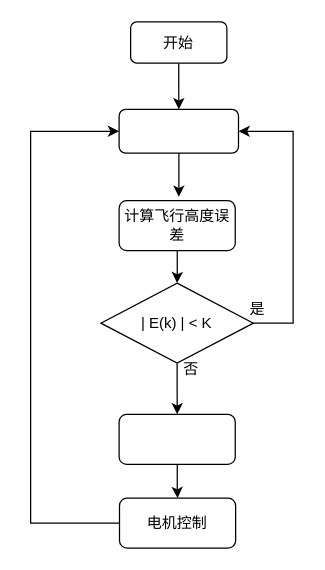
Some shapes in this 325 by 570 pixel diagram are drawn without their labels. The box of each missing label's shape, as (x1, y1, x2, y2) in pixels:
PID控制: (118, 413, 235, 464)
获取飞行高度: (118, 108, 238, 153)
